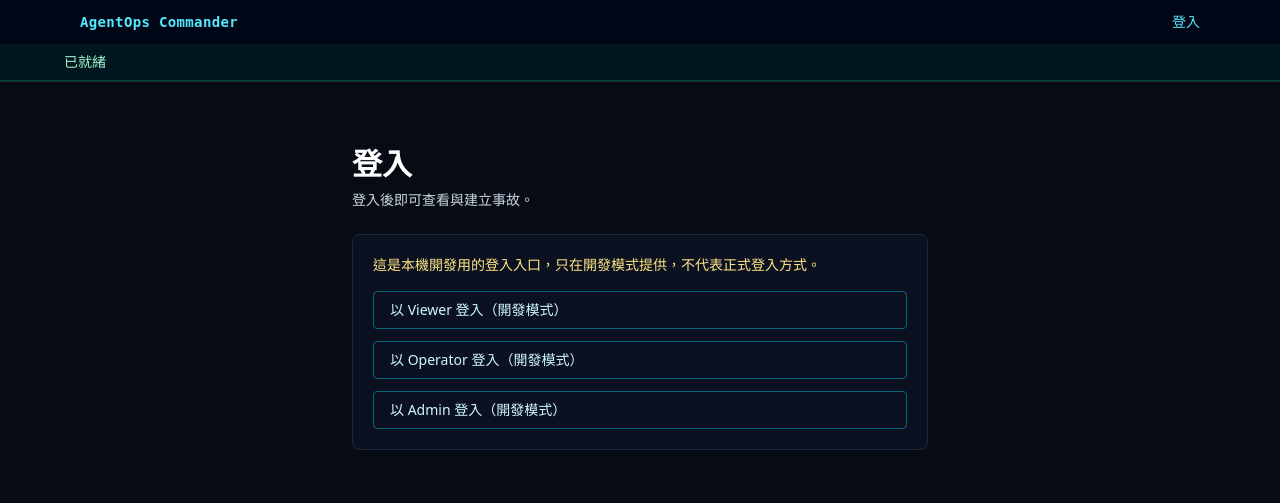
Test case: /login › 登入失敗：顯示友善訊息、不顯示原始錯誤，按鈕恢復可用
Click the button "以 Admin 登入（開發模式）" at (478, 410), box [373,391,907,429]
Wait 60 ms
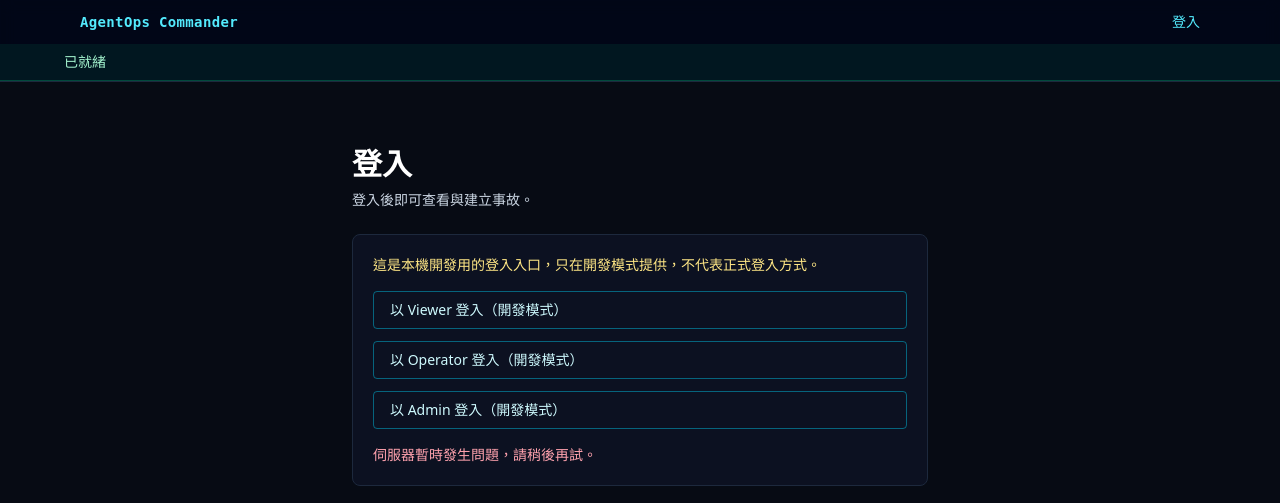
expect the text "伺服器暫時發生問題，請稍後再試。" is shown: met, box [373,445,597,464]
